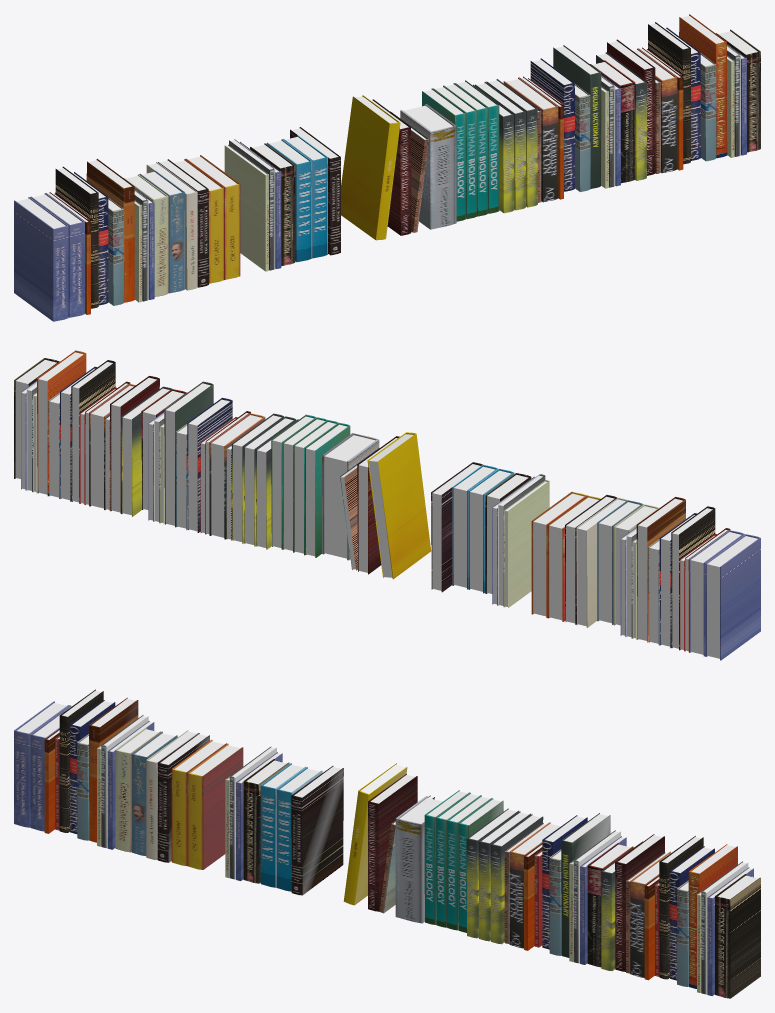
The model's file is books 4.FBX.
3 views of the same model, one above another, from view 1: azimuth 30°, elevation 25°; view 2: azimuth 150°, elevation 25°; view 3: azimuth 330°, elevation 25° (orthographic).
Visible parts, largest first — view 1: books 4; view 2: books 4; view 3: books 4.
Boxes of the visible parts, x1,y1,x2,y2 form: books 4: (14,14,760,321); books 4: (14,350,760,660); books 4: (14,689,760,998).
Bounding box in the file's own units: 194 × 29.96 × 19.62.
Materials: 1 (1 with a texture image).
